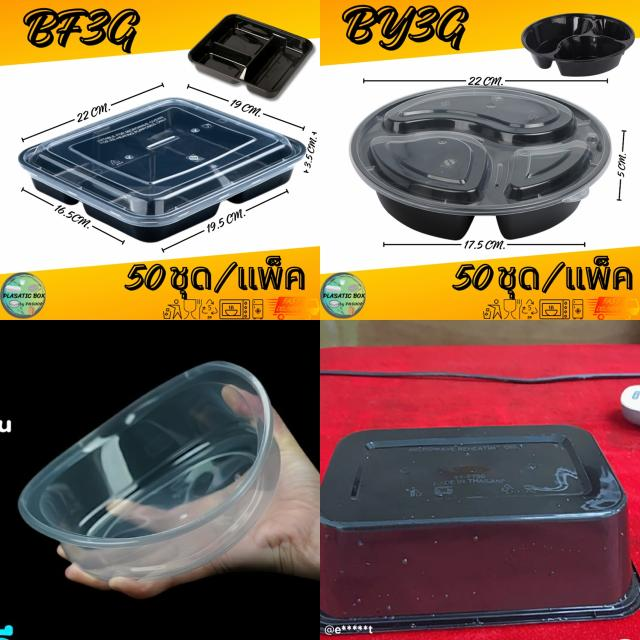Single-Use-Plastic: (320, 425, 640, 634), (19, 361, 280, 579), (19, 99, 305, 242), (350, 86, 611, 239), (189, 14, 312, 98), (521, 14, 635, 76)
